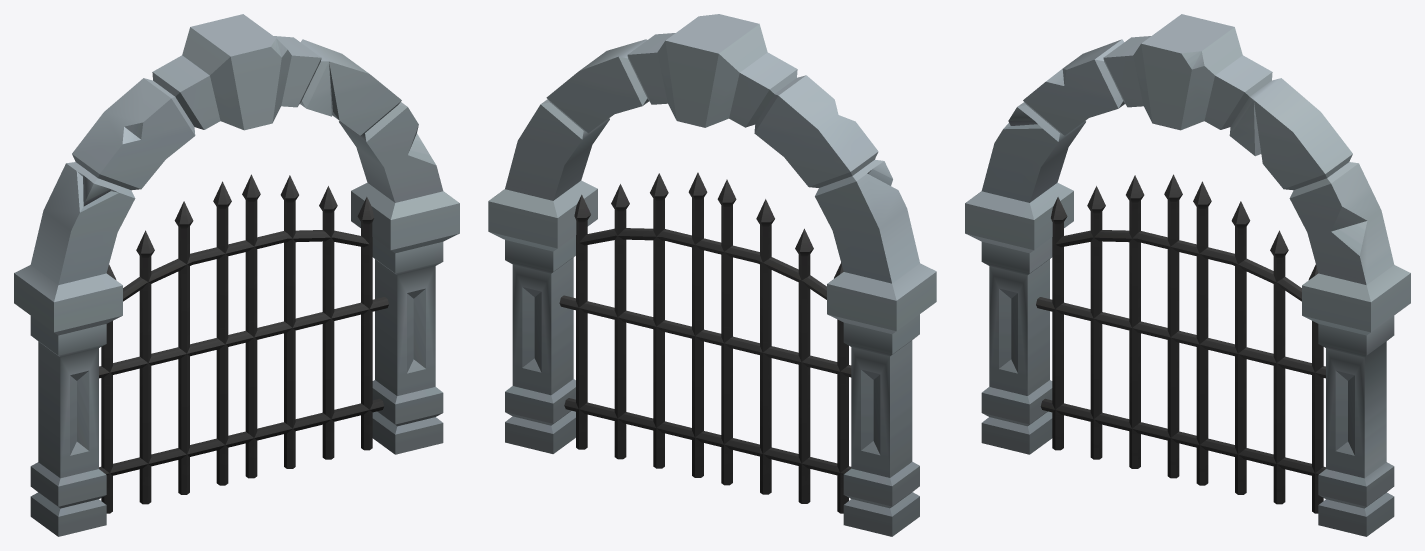
File: arch-gate.glb
3 views of the same model, side by side, from view 1: azimuth 30°, elevation 25°; view 2: azimuth 150°, elevation 25°; view 3: azimuth 330°, elevation 25° (orthographic).
Parts seen in each view (by area): view 1: arch_gate; view 2: arch_gate; view 3: arch_gate.
Part boxes in pixels (left/top/right/bottom): arch_gate: left=14, top=14, right=459, bottom=536; arch_gate: left=488, top=14, right=936, bottom=536; arch_gate: left=965, top=14, right=1410, bottom=536.
Size of the model in its own units: 4.22 by 4.41 by 0.77.
Materials: 1 (1 with a texture image).
